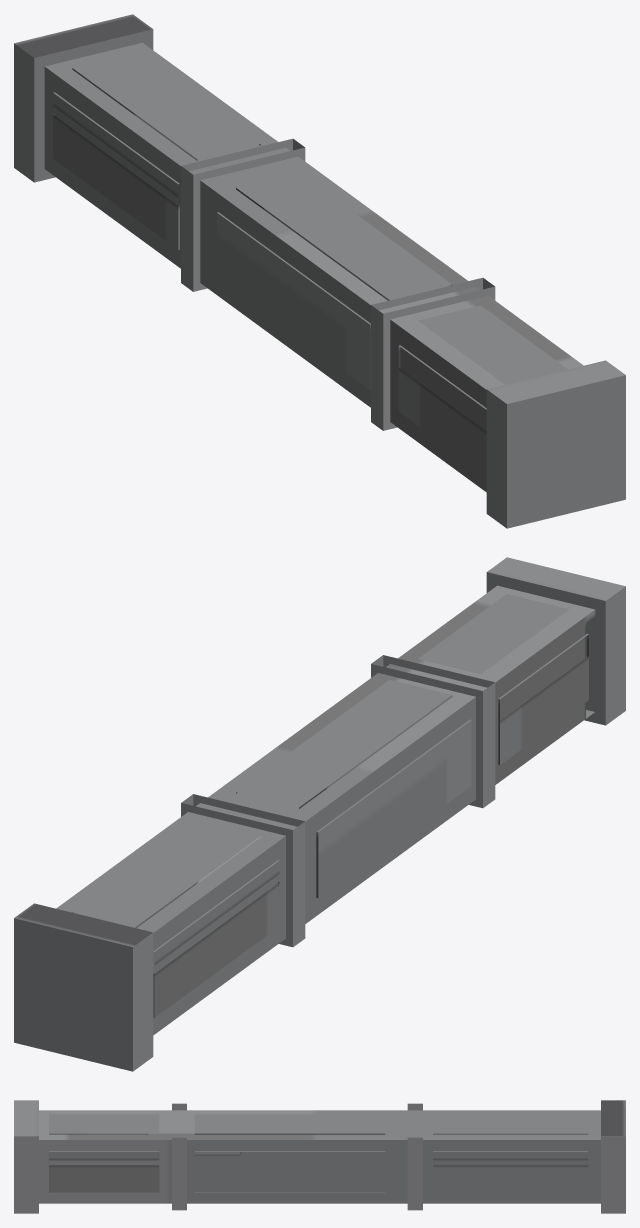
The picture shows the model from 3 angles, top to bottom: view 1: azimuth 30°, elevation 25°; view 2: azimuth 150°, elevation 25°; view 3: azimuth 270°, elevation 25°; orthographic projection. The views are drawn at different scales.
Bounding box in the file's own units: 0.34 × 0.34 × 2.44.
